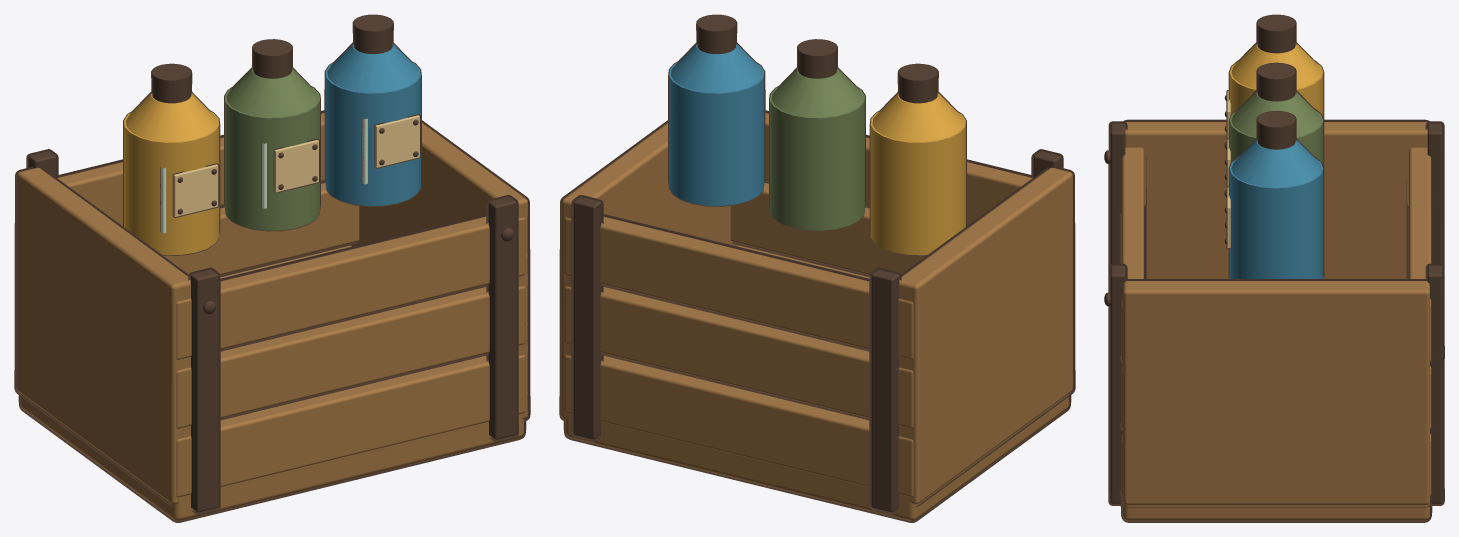
File: prop_2008.glb
The picture shows the model from 3 angles, left to right: view 1: azimuth 30°, elevation 25°; view 2: azimuth 150°, elevation 25°; view 3: azimuth 270°, elevation 25°; orthographic projection. The views are drawn at different scales.
Visible parts, largest first — view 1: prop_2008; view 2: prop_2008; view 3: prop_2008.
Boxes of the visible parts, left/top/right/bottom form: prop_2008: left=14, top=14, right=530, bottom=522; prop_2008: left=559, top=14, right=1075, bottom=522; prop_2008: left=1104, top=14, right=1444, bottom=522.
Bounding box in the file's own units: 0.8289 × 0.83 × 0.6911.
